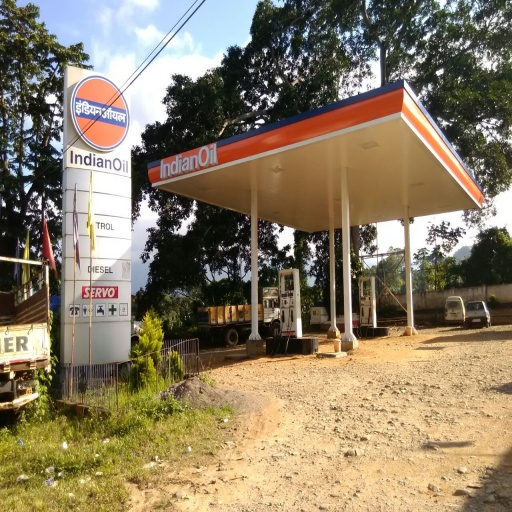roof: (151, 83, 486, 244)
